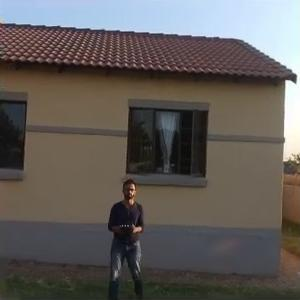follow: (102, 173, 148, 298)
